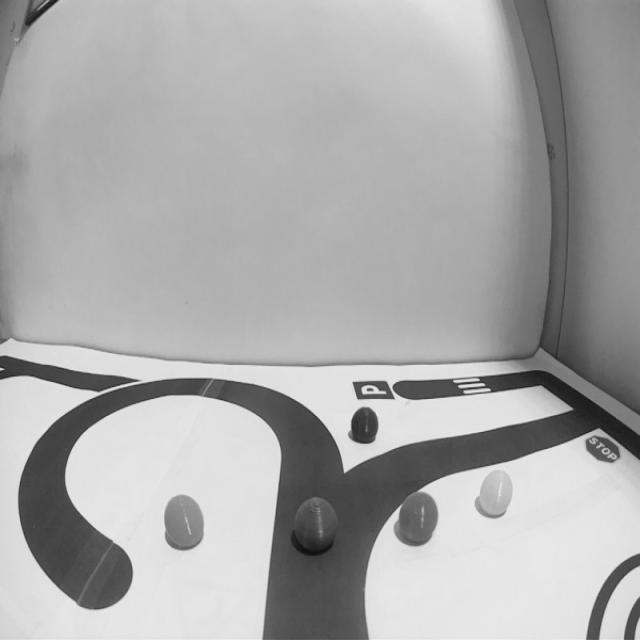ball: (396, 488, 442, 548), (293, 496, 339, 553), (163, 492, 205, 551), (476, 467, 515, 519), (349, 406, 379, 444)
